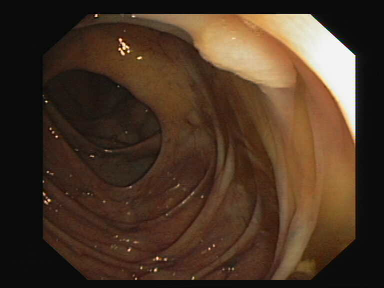polyp: (171, 14, 303, 108)
